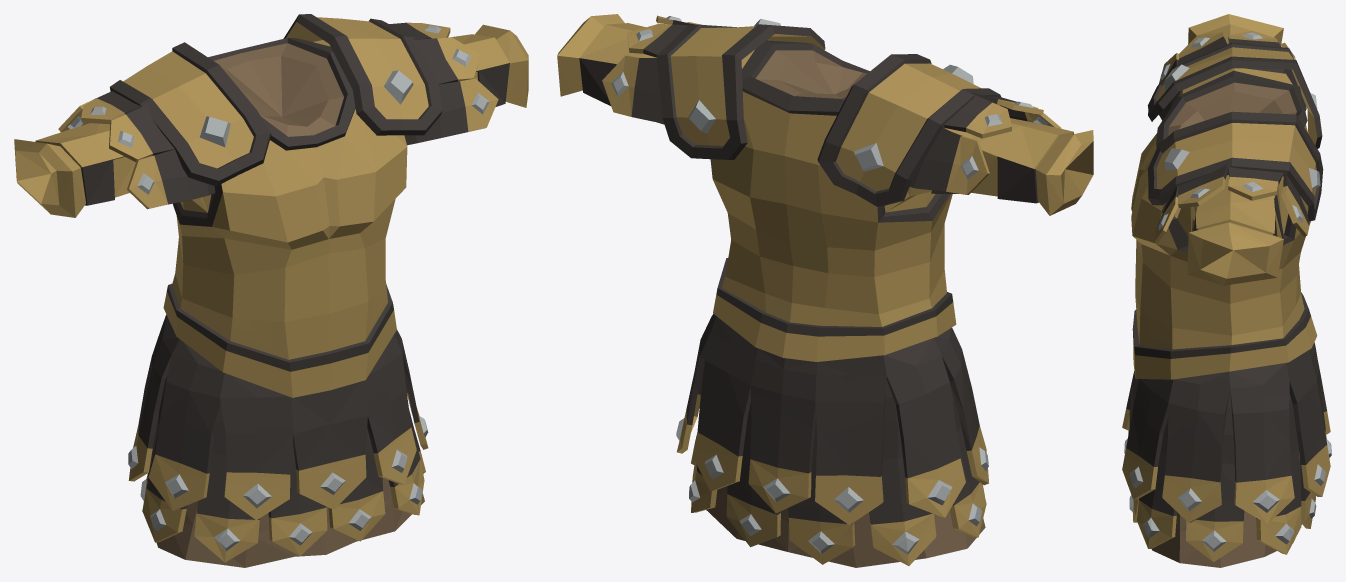
File: armorRoyalDisplay.fbx
3 renders of one model, left to right at view 1: azimuth 30°, elevation 25°; view 2: azimuth 150°, elevation 25°; view 3: azimuth 270°, elevation 25°, orthographic. The views are drawn at different scales.
Visible parts, largest first — view 1: armorRoyalDisplay; view 2: armorRoyalDisplay; view 3: armorRoyalDisplay.
Part boxes in pixels (x1,y1,x2,y2): armorRoyalDisplay: (14, 14, 528, 567); armorRoyalDisplay: (557, 14, 1093, 567); armorRoyalDisplay: (1122, 14, 1331, 567).
Bounding box in the file's own units: 1.81 × 1.67 × 0.737.
